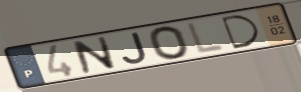4: (46, 42, 77, 78)
D: (218, 13, 263, 51)
J: (120, 30, 150, 65)
L: (185, 20, 228, 57)
N: (70, 35, 119, 76)
O: (146, 24, 192, 61)
